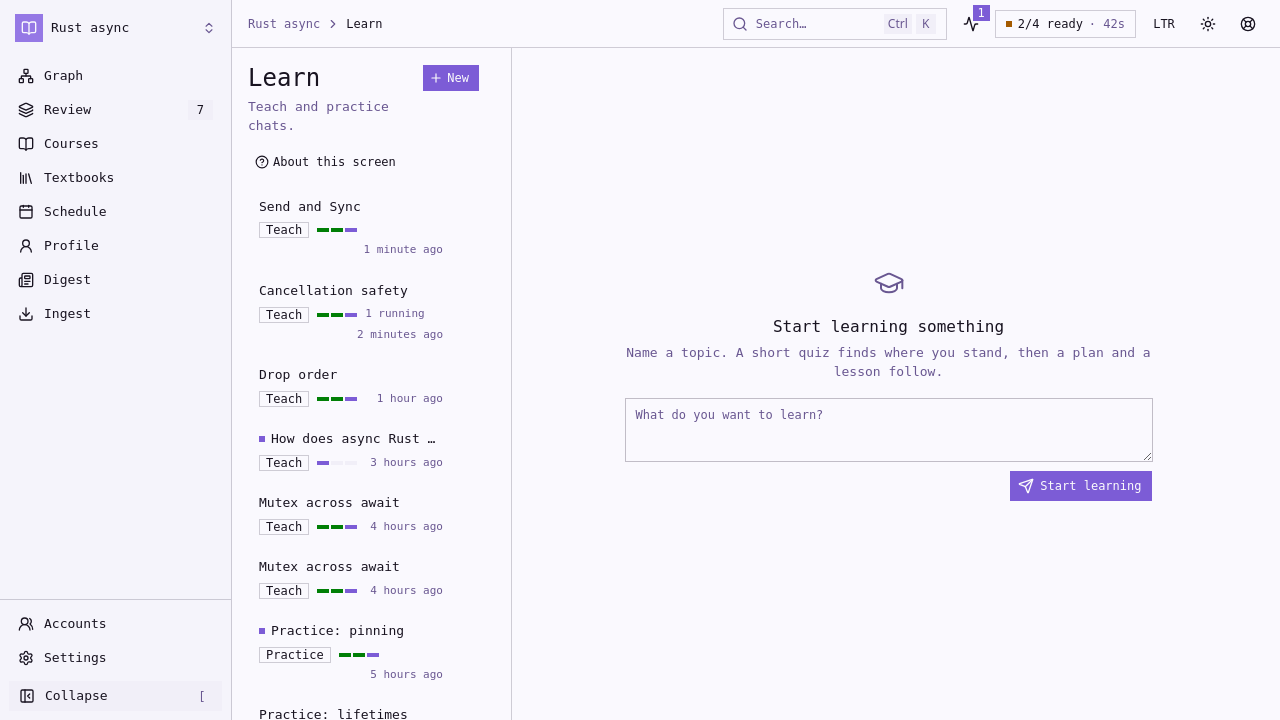
StartLearning and NewChatDialog › shows server validation on the topic field
Expected: the navigation bar with test id "chat-list" is shown, 248,188 -> 480,719
Click the button with test id "new-chat" at (451, 78), box 422,64 -> 480,92
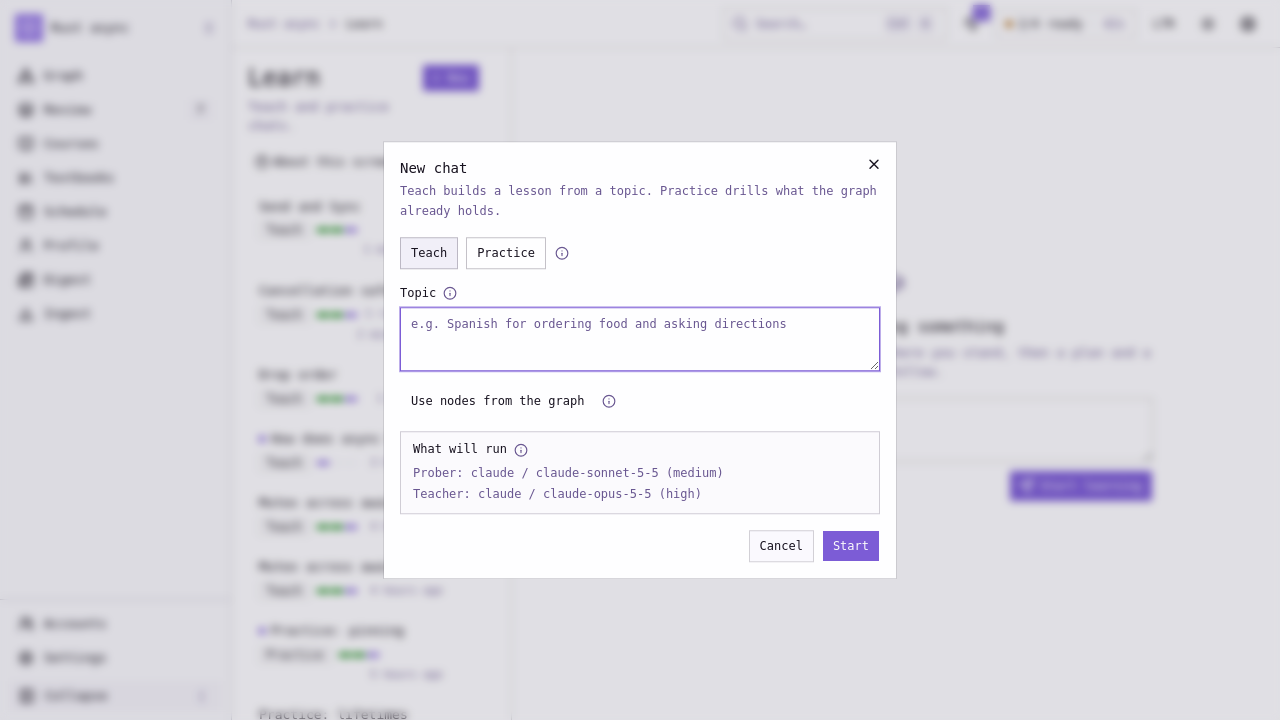
Type "stuff" into the text box with test id "new-chat-topic" at (640, 339), box 400,307 -> 880,371
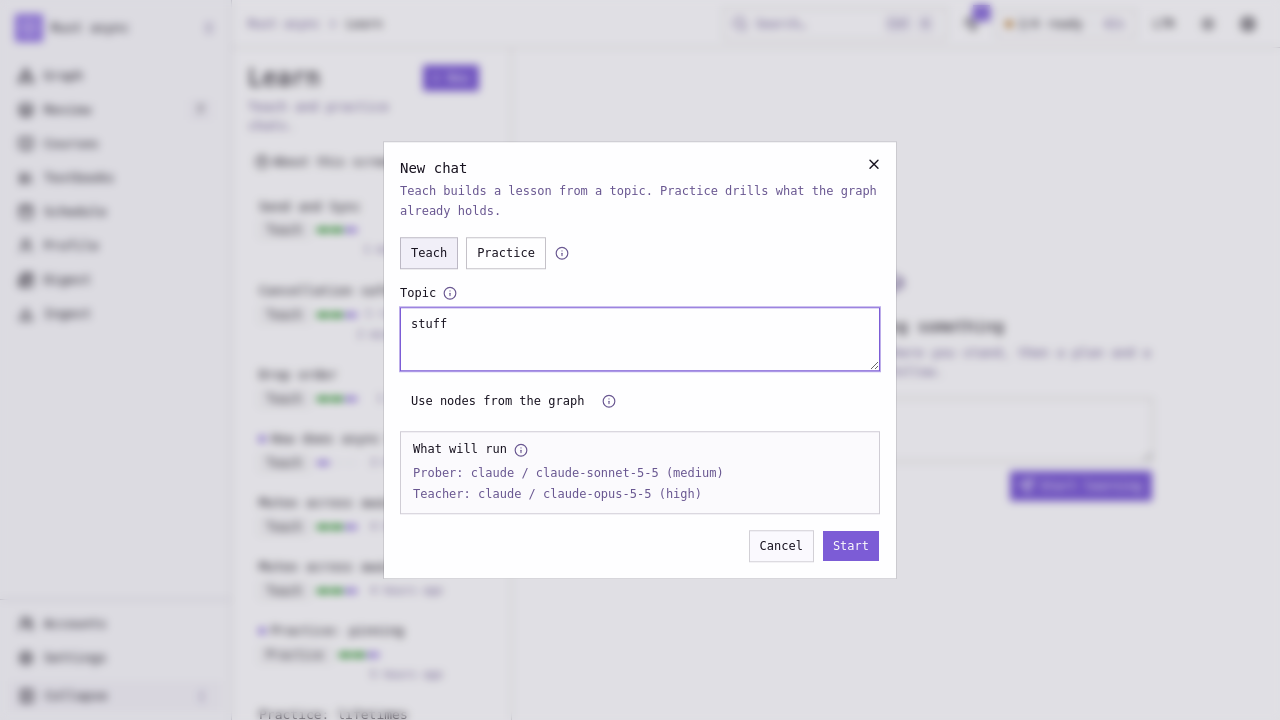
Click the button with test id "new-chat-submit" at (851, 546), box 822,530 -> 880,562
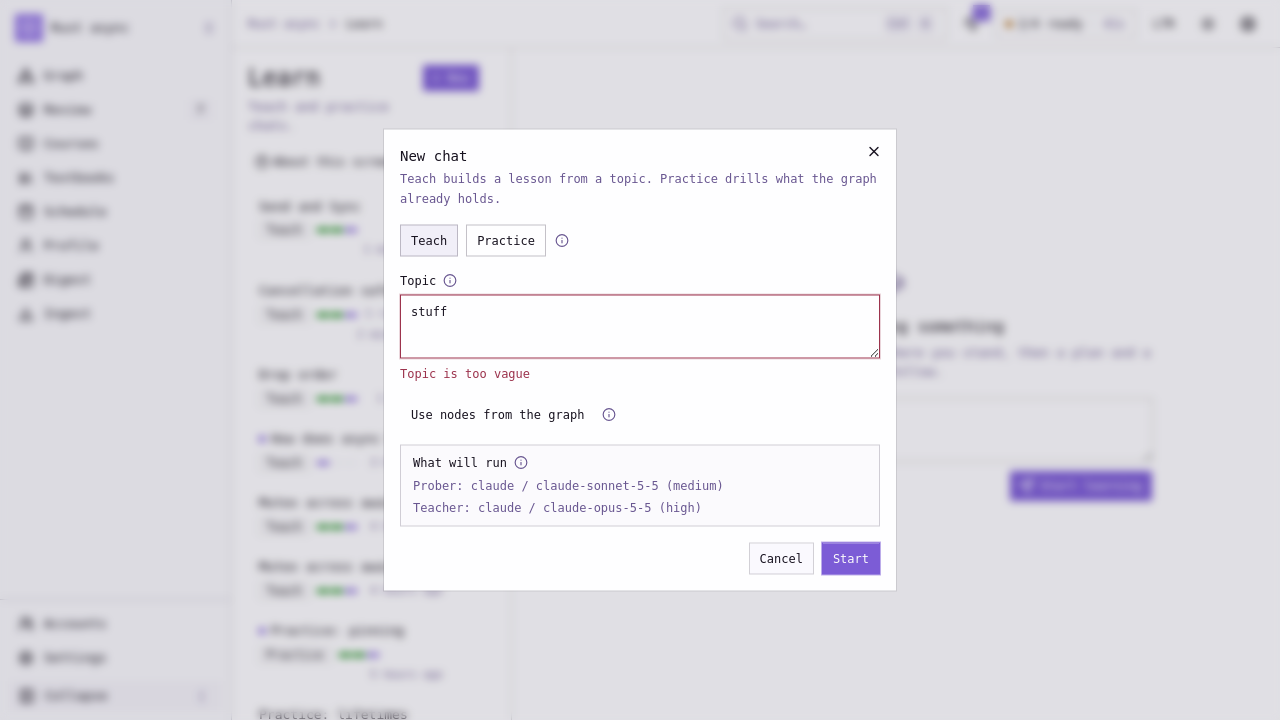
Now the text "Topic is too vague" is shown, box 400,366 -> 530,380
